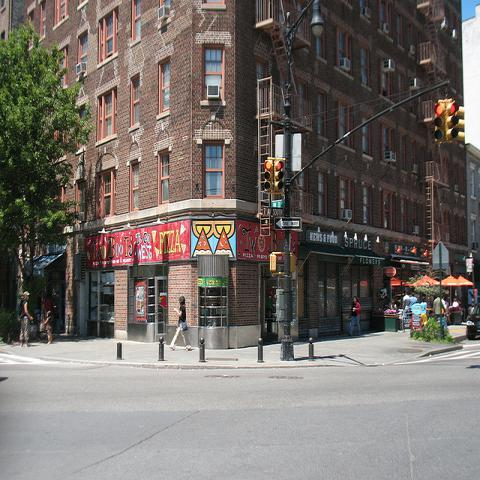car: (466, 303, 479, 341)
